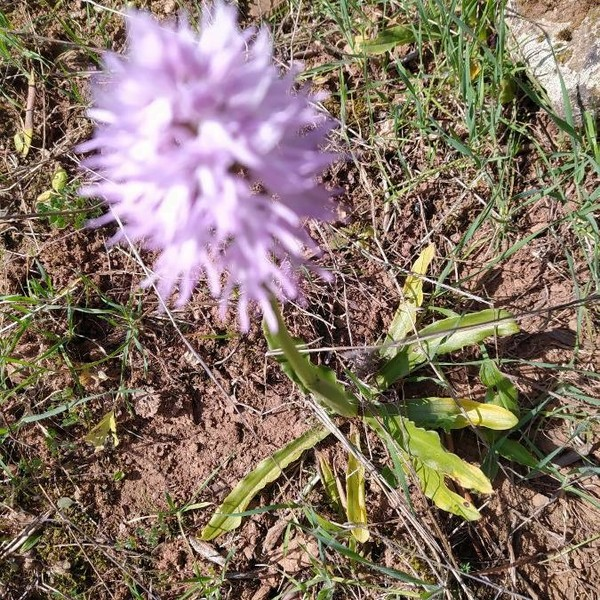obstacle: (77, 30, 513, 542)
